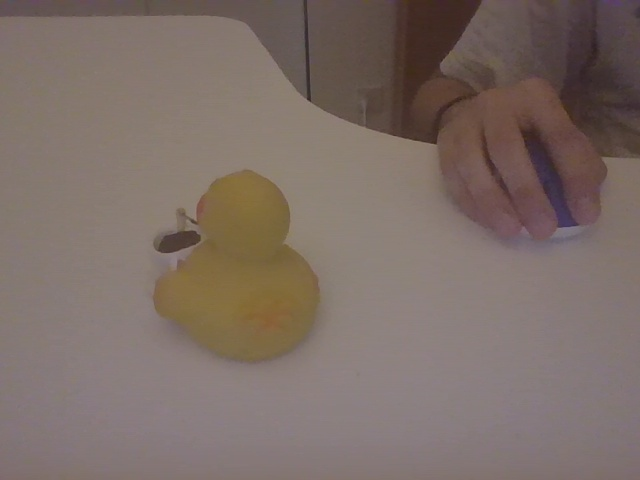duck: (138, 151, 323, 374)
